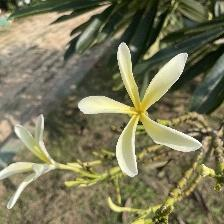champaka: (76, 42, 206, 181), (1, 113, 58, 211)
